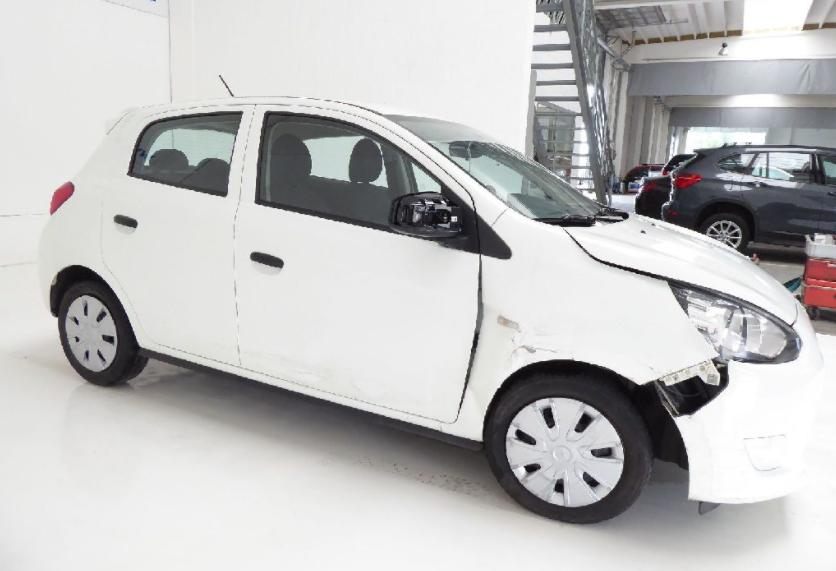Back-door: (100, 105, 253, 366)
Back-wheel: (59, 282, 147, 386)
Back-window: (131, 112, 240, 194)
Fender: (443, 210, 720, 441)
Front-bumper: (677, 300, 825, 504)
Front-door: (235, 106, 479, 423)
Front-wheel: (485, 368, 654, 525)
Front-window: (257, 112, 442, 225)
Headlight: (675, 283, 796, 361)
Hood: (565, 212, 796, 324)
Mirror: (388, 192, 463, 238)
Quarter-panel: (40, 176, 150, 346)
Rocker-panel: (140, 340, 448, 433)
Roof: (305, 99, 433, 115)
Tail-light: (51, 183, 74, 214)
Trunk: (105, 104, 160, 135)
Windshield: (387, 113, 604, 219)
